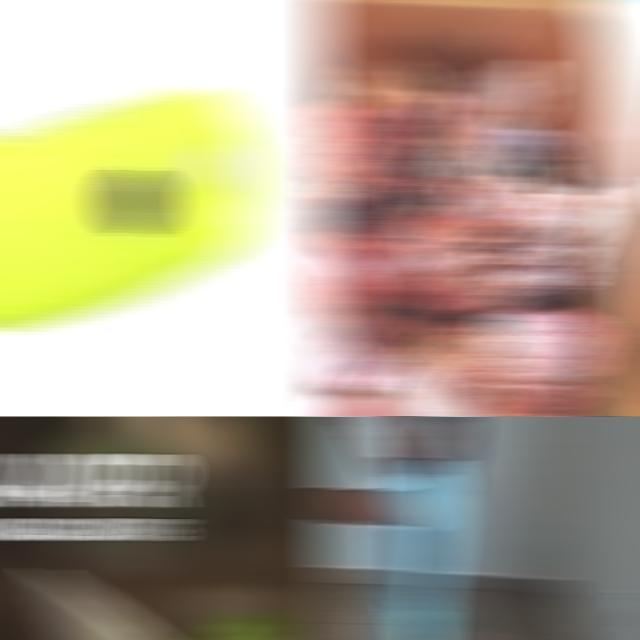Knife_Handle: (32, 566, 336, 640), (335, 416, 384, 436), (336, 416, 373, 434)
